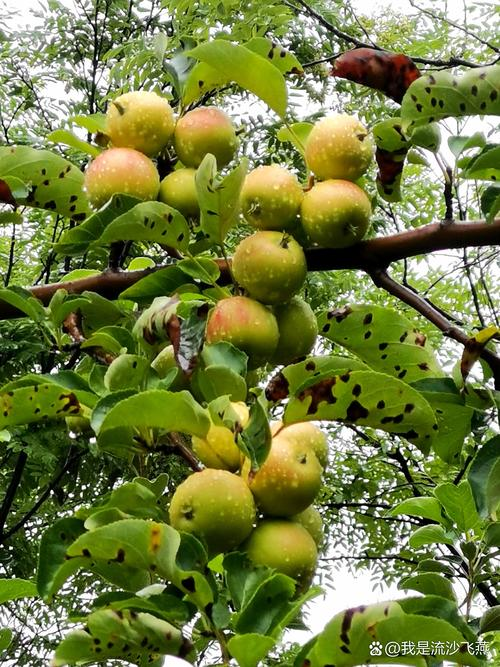unripe: (155, 465, 254, 550), (240, 436, 327, 510), (247, 522, 327, 602), (221, 230, 311, 301), (184, 391, 262, 470), (199, 293, 281, 364), (296, 109, 376, 180), (80, 146, 163, 214), (299, 177, 373, 245), (97, 90, 179, 150), (175, 99, 243, 168), (233, 160, 299, 228), (158, 167, 221, 238)
